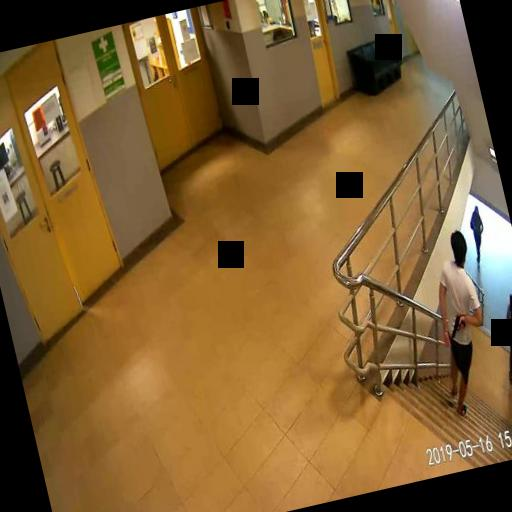Handgun: (446, 313, 466, 338)
